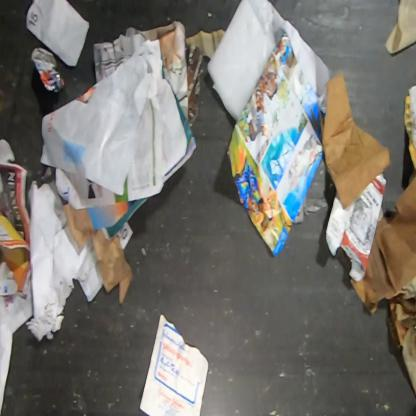cardboard: (349, 166, 415, 315), (322, 74, 391, 210), (325, 172, 388, 282)
metal: (30, 47, 64, 93)
